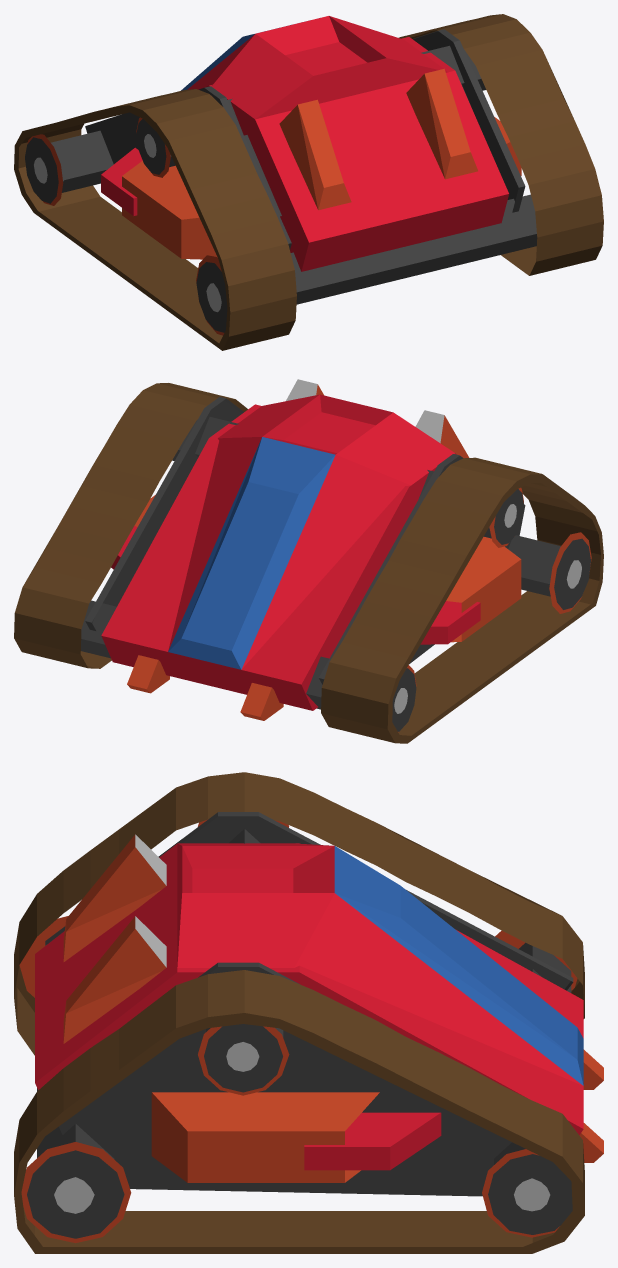
Rendered from tank.FBX.
3 renders of one model, top to bottom at view 1: azimuth 30°, elevation 25°; view 2: azimuth 150°, elevation 25°; view 3: azimuth 270°, elevation 25°, orthographic. The views are drawn at different scales.
Visible parts, largest first — view 1: VIFS006, VIFS001, VIFS004, VIFS002, VIFS003, VIFS005; view 2: VIFS006, VIFS001, VIFS005, VIFS004, VIFS002, VIFS003; view 3: VIFS006, VIFS001, VIFS004, VIFS002, VIFS005, VIFS003.
Boxes of the visible parts, x1,y1,x2,y2 form: VIFS006: [14, 14, 603, 350]; VIFS001: [101, 16, 508, 271]; VIFS004: [25, 29, 537, 332]; VIFS002: [27, 68, 521, 335]; VIFS003: [34, 134, 221, 312]; VIFS005: [181, 24, 291, 90]; VIFS006: [14, 383, 603, 743]; VIFS001: [101, 394, 480, 710]; VIFS005: [168, 437, 335, 669]; VIFS004: [81, 397, 590, 731]; VIFS002: [127, 384, 591, 732]; VIFS003: [286, 379, 581, 713]; VIFS006: [14, 772, 584, 1253]; VIFS001: [35, 843, 583, 1170]; VIFS004: [27, 812, 573, 1238]; VIFS002: [19, 819, 603, 1243]; VIFS005: [334, 846, 583, 1085]; VIFS003: [54, 834, 550, 1213].
Bounding box in the file's own units: 0.84 × 0.426 × 0.87.
